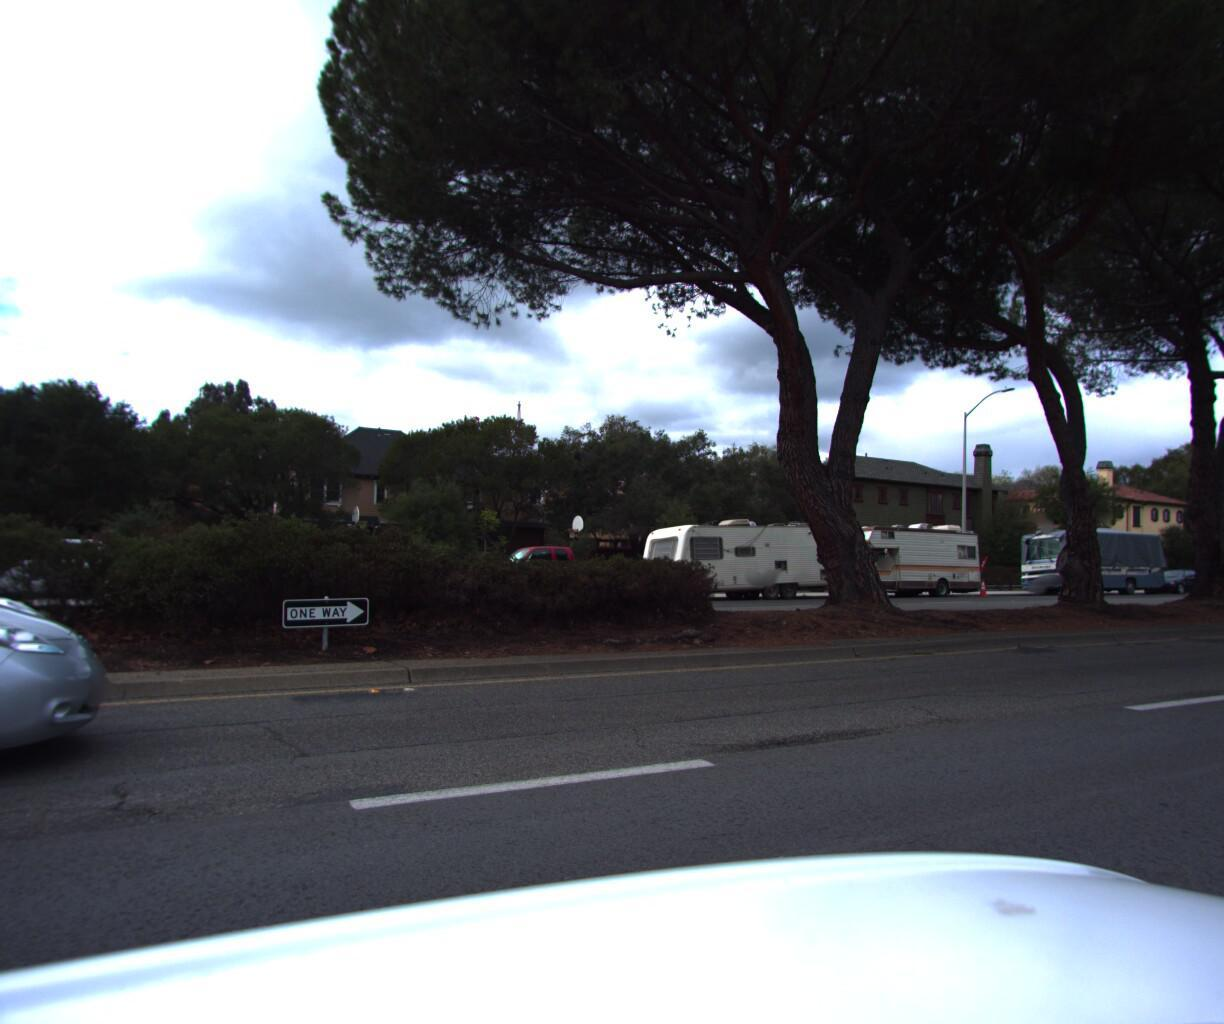car: (441, 538, 641, 605), (1137, 562, 1214, 591)
other_vehicle: (628, 508, 863, 597), (816, 513, 989, 596), (1006, 516, 1168, 592)
